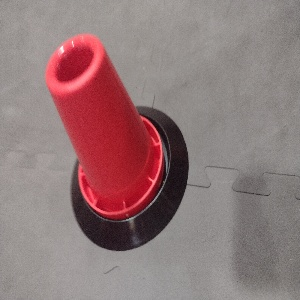Red_1: (39, 30, 167, 223)
